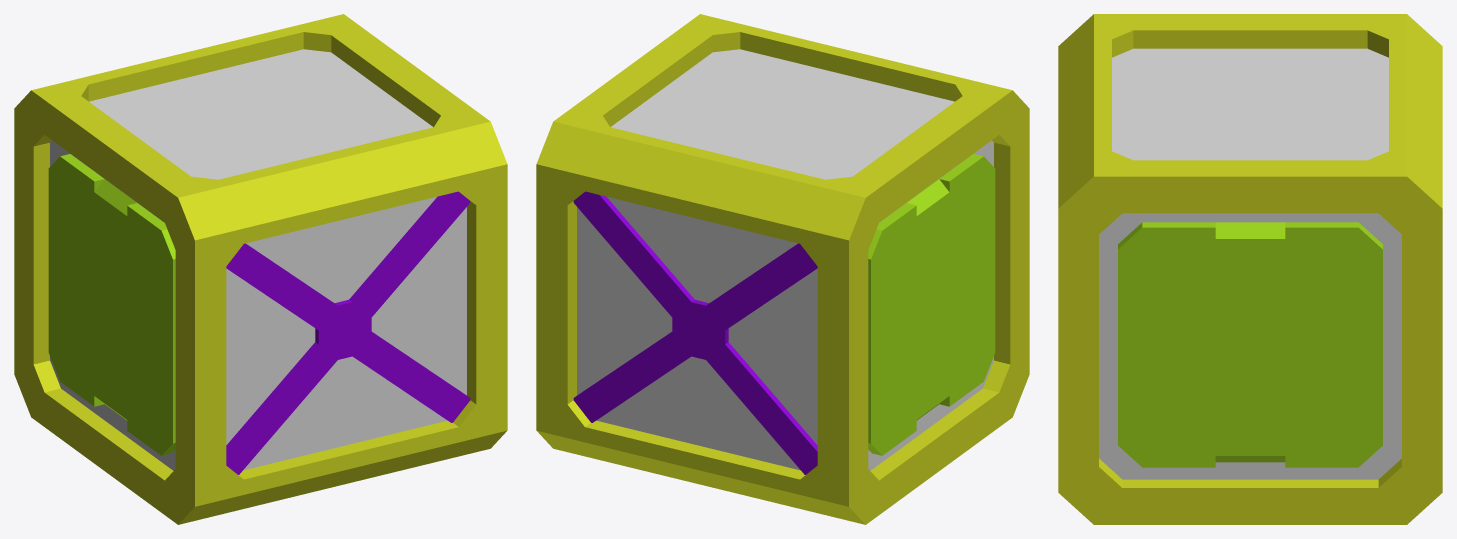
Rendered from cargo_crate_1x1x1.glb.
3 renders of one model, left to right at view 1: azimuth 30°, elevation 25°; view 2: azimuth 150°, elevation 25°; view 3: azimuth 270°, elevation 25°, orthographic. The views are drawn at different scales.
Parts seen in each view (by area): view 1: Cube, Cube.001, Cube.009, Cube.007; view 2: Cube, Cube.001, Cube.009, Cube.007; view 3: Cube, Cube.009, Cube.001.
Boxes of the visible parts, x1,y1,x2,y2 form: Cube: (14,14,507,524); Cube.001: (50,49,466,470); Cube.009: (48,154,175,455); Cube.007: (226,191,470,474); Cube: (536,14,1029,524); Cube.001: (577,49,993,470); Cube.009: (868,154,995,455); Cube.007: (573,191,817,474); Cube: (1058,14,1442,524); Cube.009: (1118,222,1382,467); Cube.001: (1099,48,1401,479).
Bounding box in the file's own units: 1 × 1 × 1.
